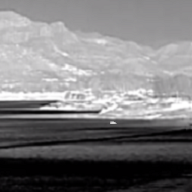Target: (109, 121, 117, 125)
